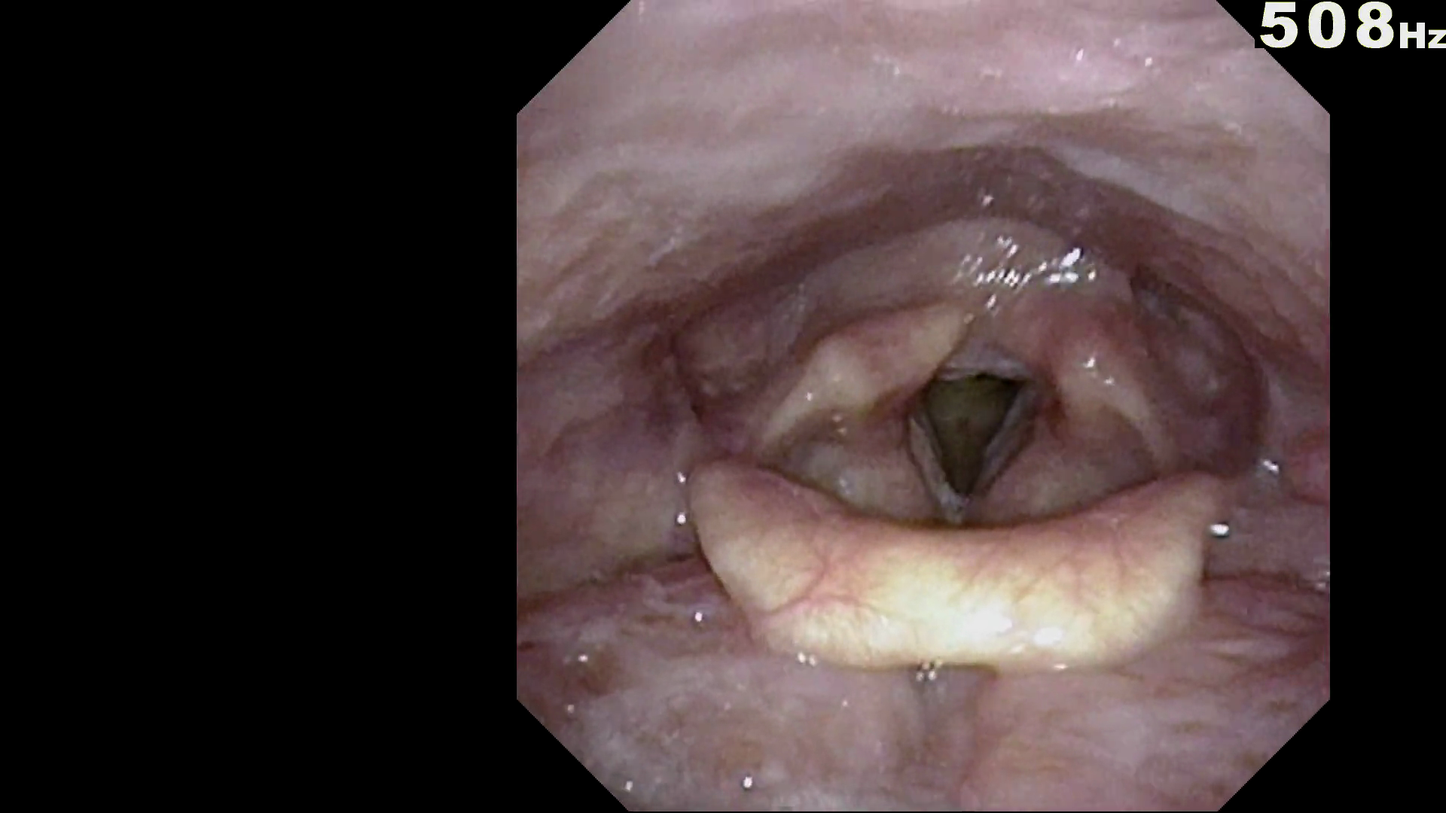epiglottis: (664, 410, 1249, 689)
trachea: (868, 329, 1068, 537)
